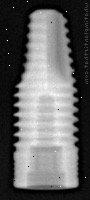Neodent: (4, 6, 79, 192)
